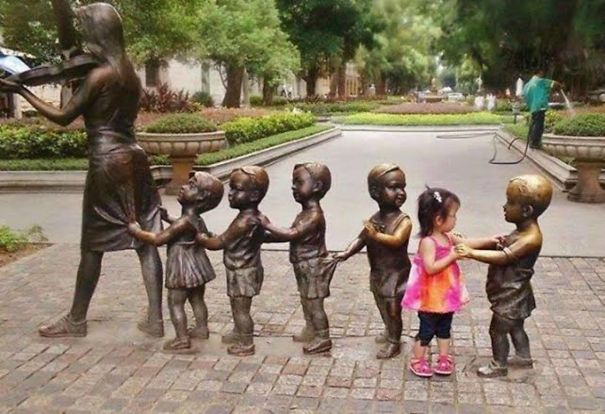person: (398, 185, 468, 379), (520, 67, 564, 149)
person-like: (1, 2, 169, 342), (457, 170, 555, 378), (129, 168, 226, 353), (328, 160, 415, 361), (255, 160, 341, 357), (197, 163, 272, 359)
